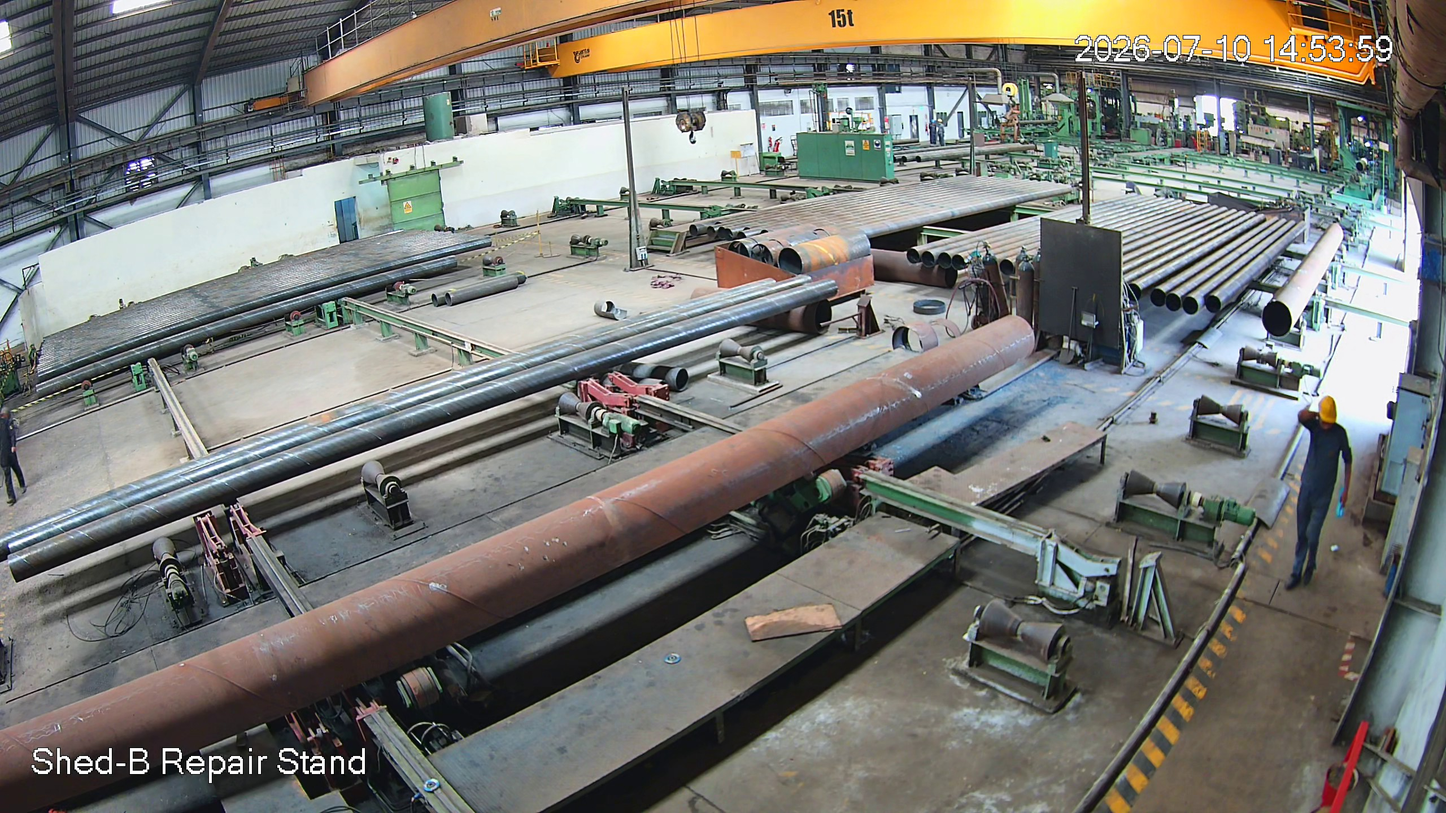Helmet: (1304, 387, 1352, 451)
Person: (1279, 389, 1357, 590)
